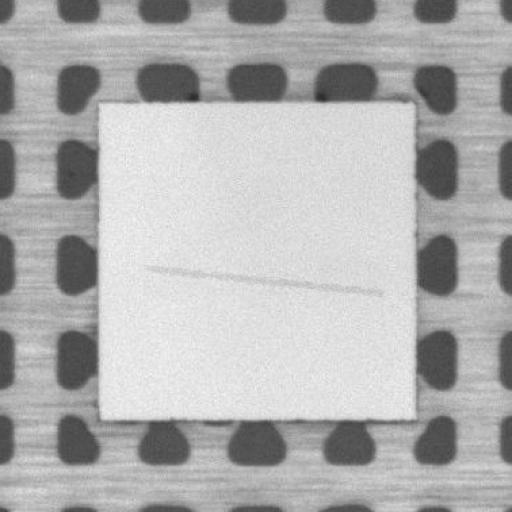DIE_CRACK: (146, 268, 380, 293)
